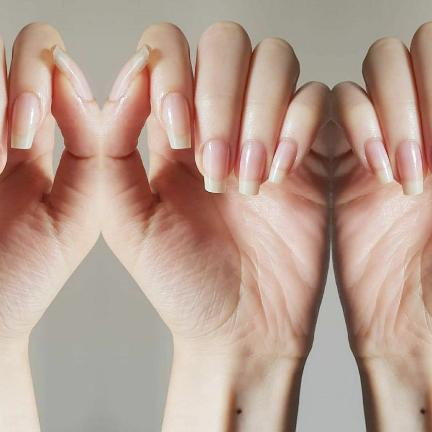Nail: (108, 44, 149, 100), (51, 44, 92, 100), (161, 93, 190, 149), (10, 93, 39, 149), (238, 142, 266, 195), (201, 141, 229, 193), (395, 142, 422, 195), (267, 139, 296, 184), (364, 139, 393, 184), (431, 147, 432, 161)
